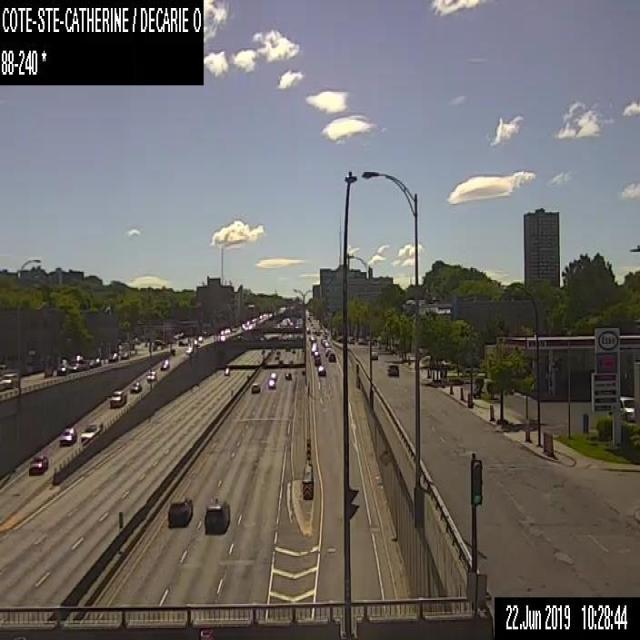construction: (524, 420, 530, 441), (488, 403, 494, 420), (459, 386, 463, 399), (449, 380, 453, 393), (467, 392, 470, 406)
vehicle: (204, 498, 229, 530), (167, 496, 192, 525), (28, 454, 48, 474), (0, 371, 20, 389), (79, 423, 101, 439), (58, 424, 75, 444), (620, 396, 634, 419), (109, 389, 126, 407), (56, 359, 69, 375), (386, 363, 398, 376), (108, 352, 118, 362), (130, 381, 140, 391), (250, 382, 260, 392), (160, 358, 169, 369), (146, 370, 156, 379), (328, 351, 336, 362), (318, 364, 325, 376), (313, 356, 321, 366), (119, 351, 129, 359), (370, 349, 377, 360), (325, 346, 331, 356), (284, 371, 291, 379), (268, 379, 274, 388), (269, 372, 276, 378), (223, 368, 229, 374), (324, 341, 331, 346), (277, 359, 283, 364), (275, 349, 280, 354), (314, 351, 318, 356), (288, 359, 293, 363), (274, 355, 279, 358), (291, 349, 295, 352), (285, 348, 290, 350)
